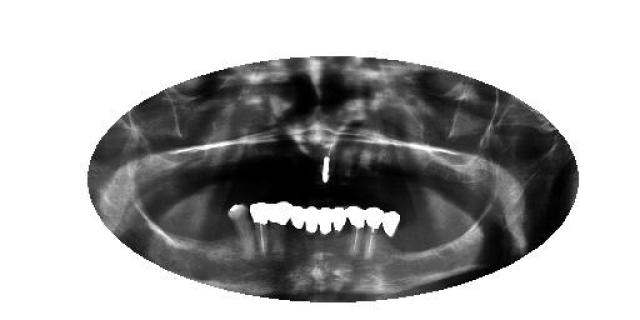Fillings: (268, 200, 292, 258), (382, 209, 402, 240), (305, 202, 319, 238), (318, 204, 332, 240), (291, 201, 305, 235), (332, 204, 346, 238)
Implant: (346, 208, 369, 258), (250, 200, 270, 255), (365, 206, 384, 258), (321, 150, 330, 186)
